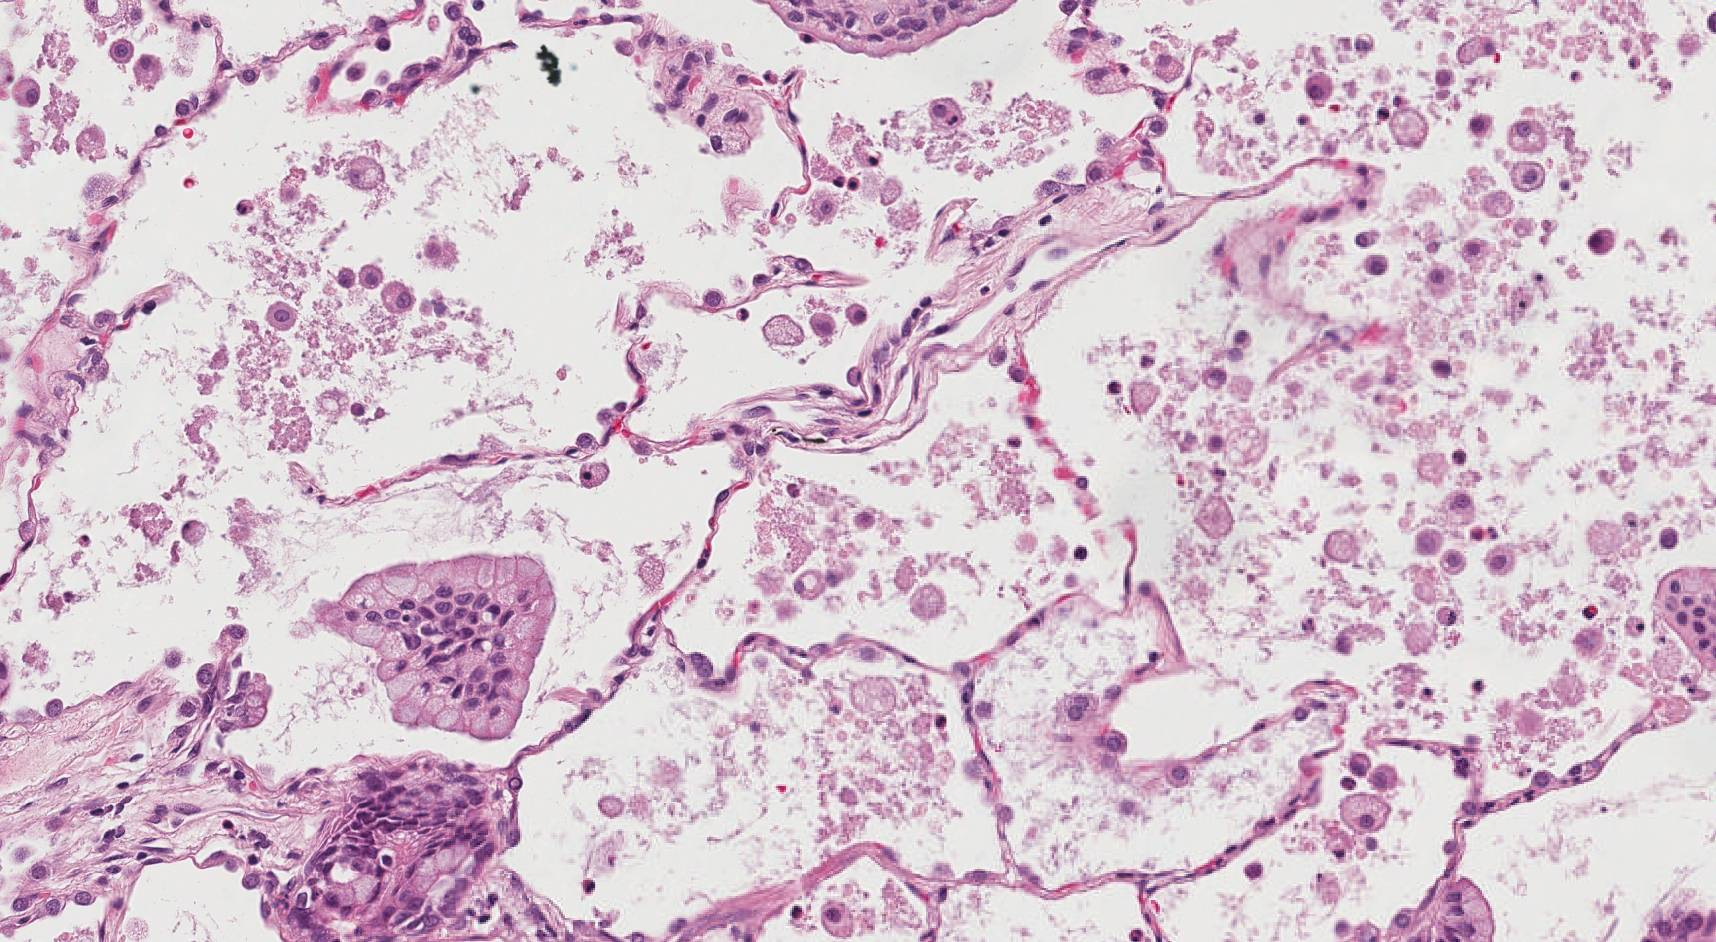stas: (313, 555, 556, 743)
